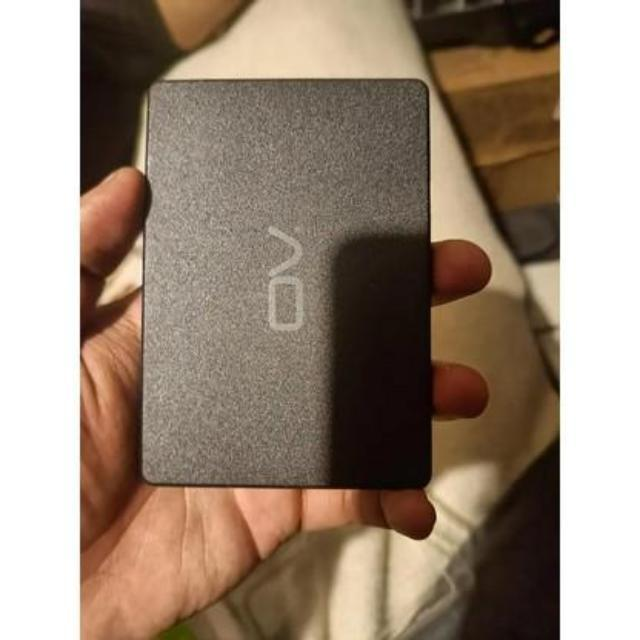DISK: (136, 61, 434, 502)
